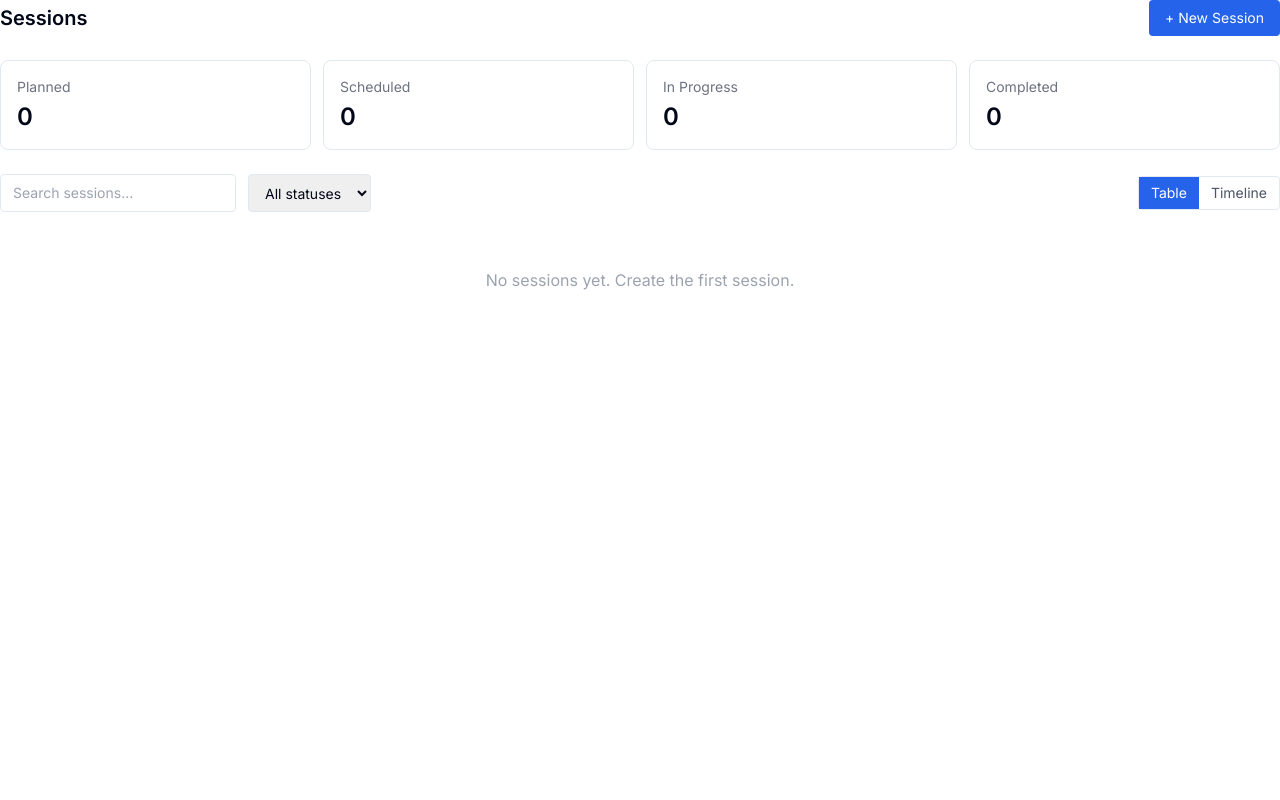
it: TrainingSessionCenter › create dialog shows error for empty session name on submit
The width and height of the screenshot is (1280, 800).
Step 1. Click the button with test id "btn-create-session" → (1214,18), box [1149,0,1279,36]
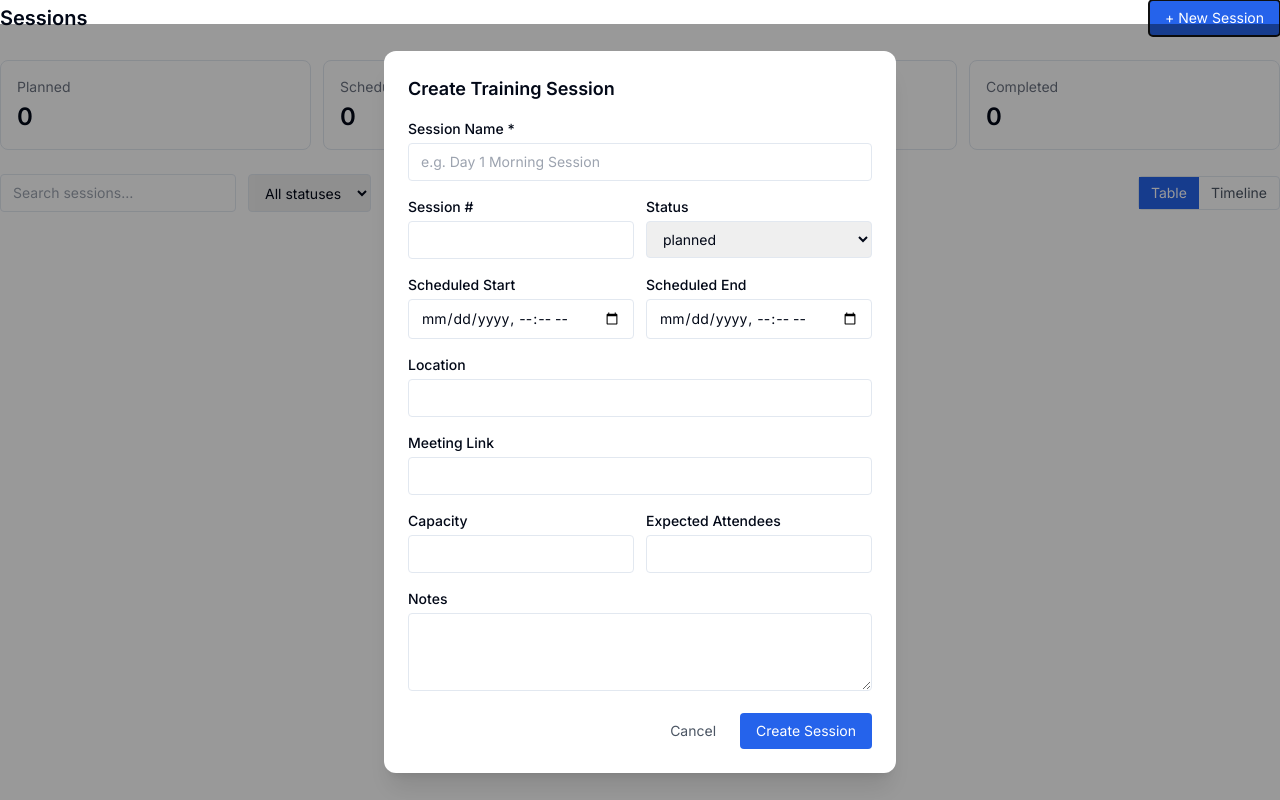
Step 2. Click the button with test id "btn-submit-create" → (806,731), box [740,713,872,749]
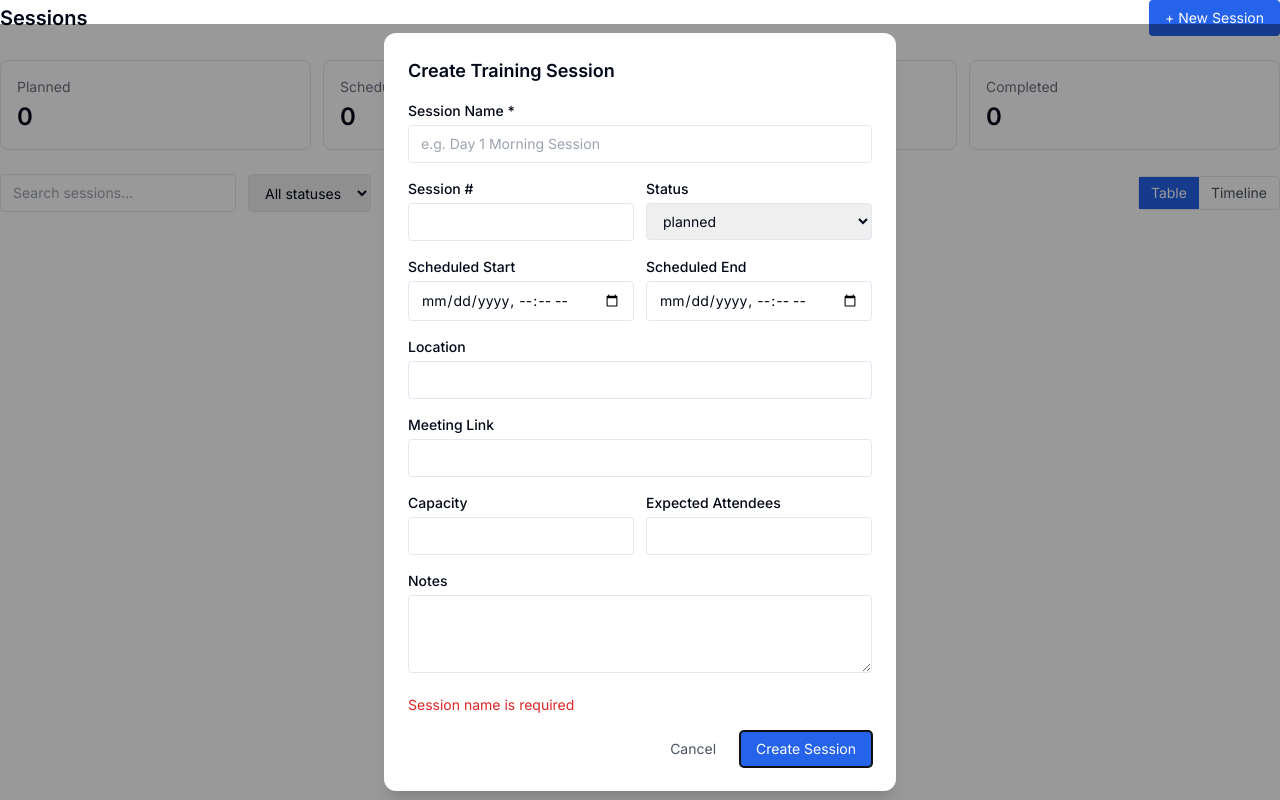
Check: the text "Session name is required" is shown, box [408,696,574,713]
